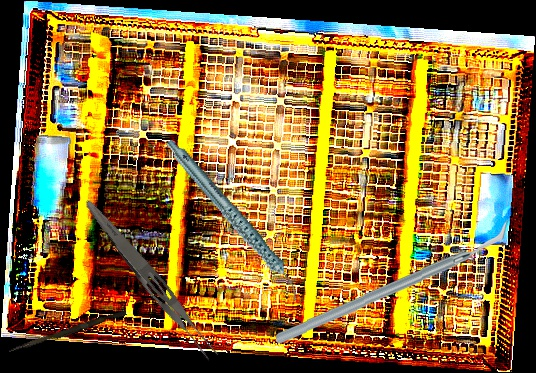Chopper: (273, 219, 513, 345)
Dressing Forceps: (76, 195, 224, 367)
Handpiece: (165, 119, 303, 321)
Pusher: (8, 307, 127, 357)
